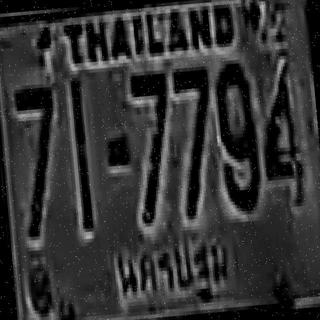N01: (68, 72, 93, 230), (68, 76, 93, 230)
N04: (254, 50, 306, 207)
N07: (13, 83, 64, 237), (128, 68, 177, 222), (170, 63, 218, 216)
N09: (212, 59, 261, 209)
P28: (98, 233, 251, 313)
